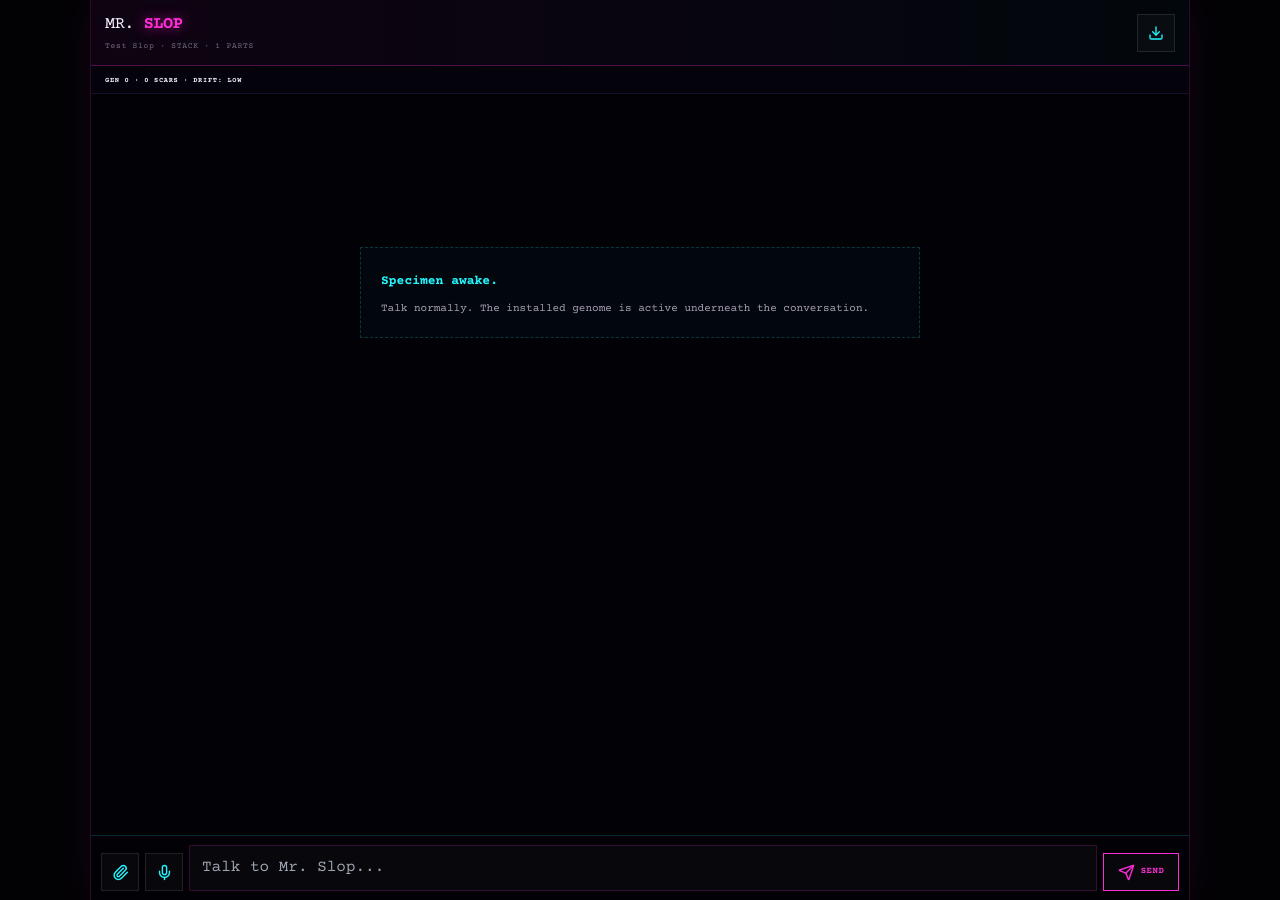
Test case: MrSlopTerminal › opens a structural decision and waits without mutating
In the text box with placeholder "Talk to Mr. Slop...": (643, 868) [189,845,1097,891], type "what can we mutate?"
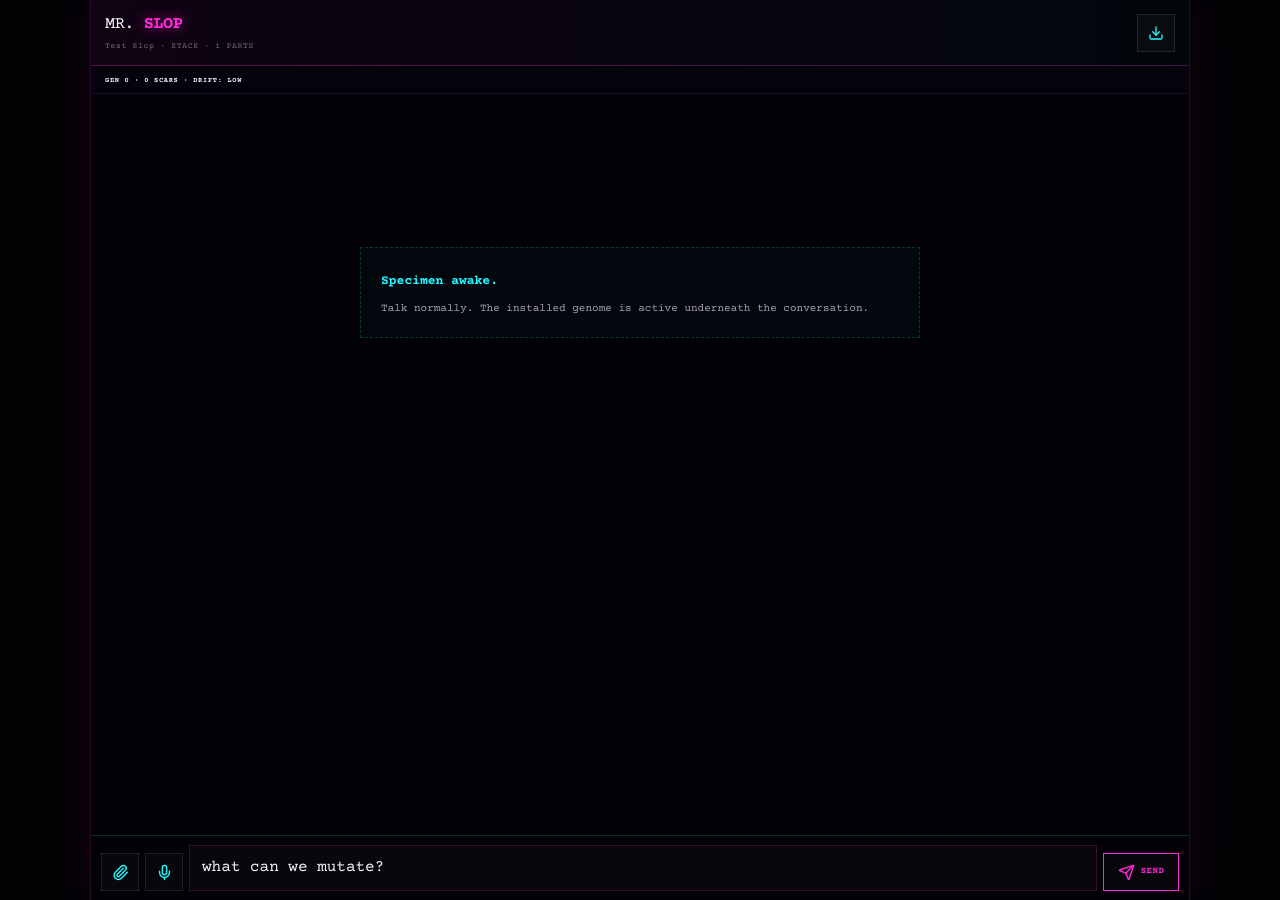
Click the button "SEND": (1141, 872) [1103,853,1179,891]
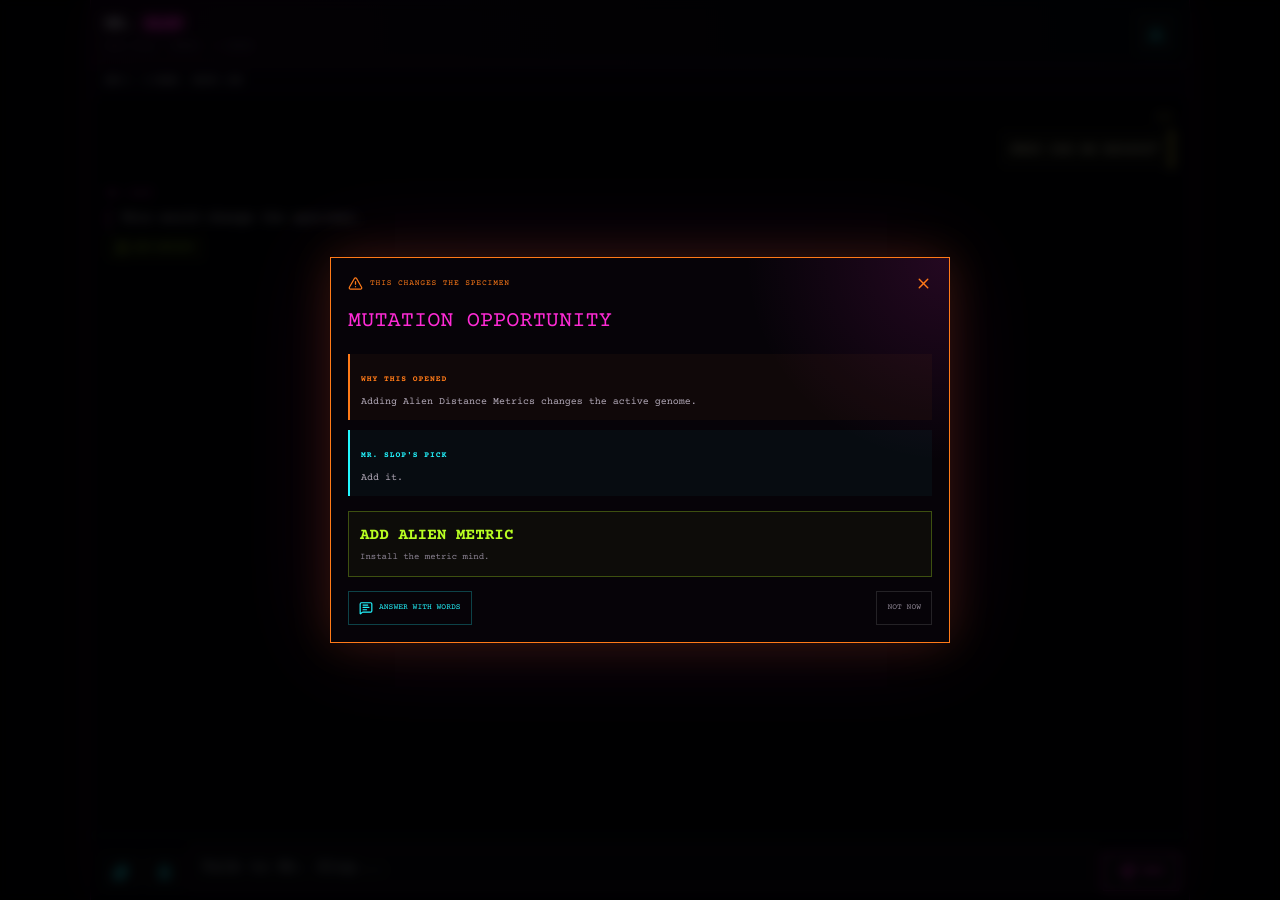
Check: the text "WHY THIS OPENED" is shown, box [361,375,447,384]
